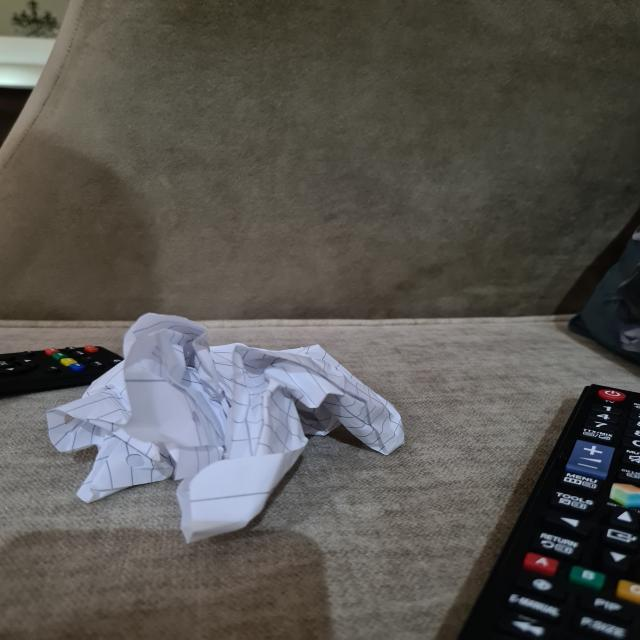Paper: (40, 316, 401, 545)
